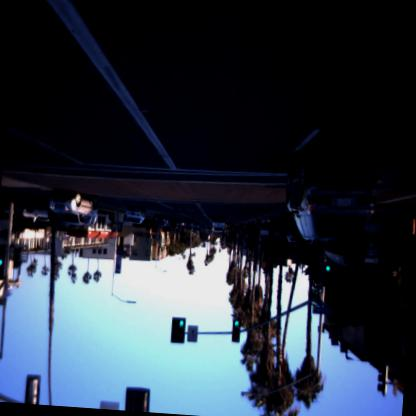trafficlight: (170, 314, 187, 346), (231, 318, 242, 346)
